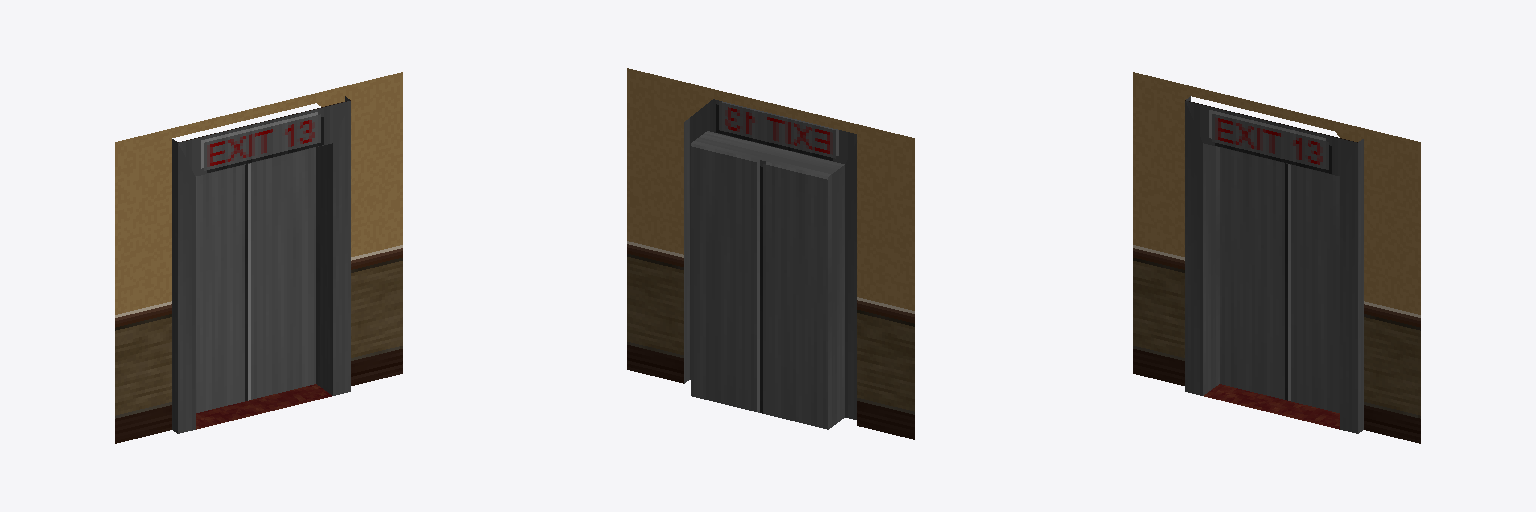
3 views of the same model, side by side, from view 1: azimuth 30°, elevation 25°; view 2: azimuth 150°, elevation 25°; view 3: azimuth 330°, elevation 25° (orthographic).
Parts seen in each view (by area): view 1: Cube.002; view 2: Cube.002; view 3: Cube.002.
Part boxes in pixels (x1,y1,x2,y2): Cube.002: (115, 72, 402, 443); Cube.002: (627, 68, 914, 439); Cube.002: (1133, 72, 1420, 443).
Bounding box in the file's own units: 3 × 3 × 0.3.
1 materials, 1 textured.